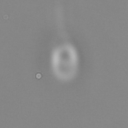normal: (52, 1, 71, 43)
